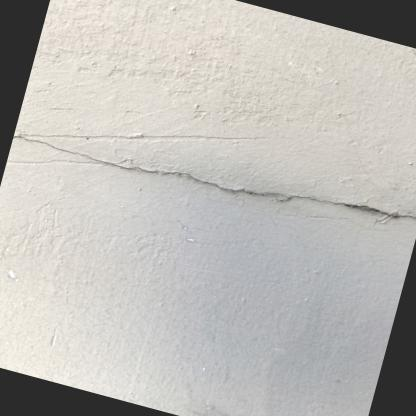crack: (12, 134, 416, 219)
